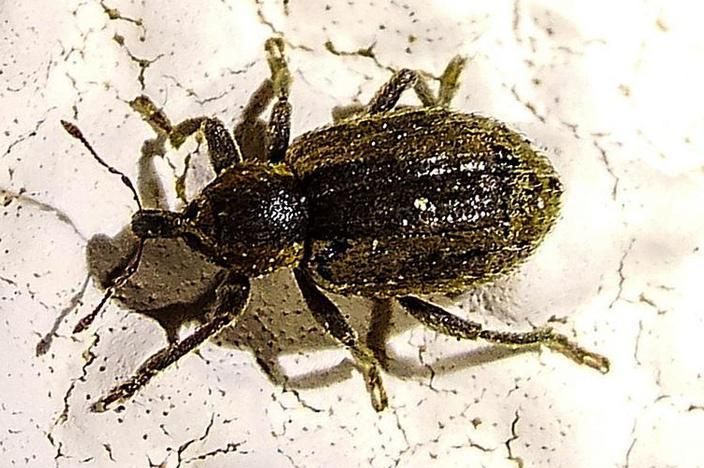weevils: (9, 1, 668, 467)
